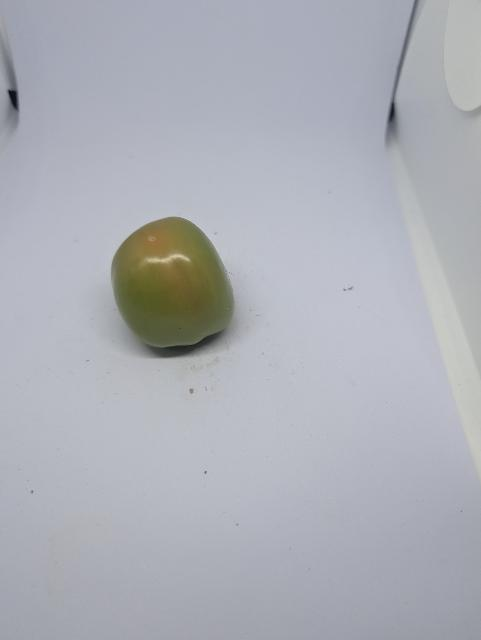breaker: (104, 213, 240, 355)
